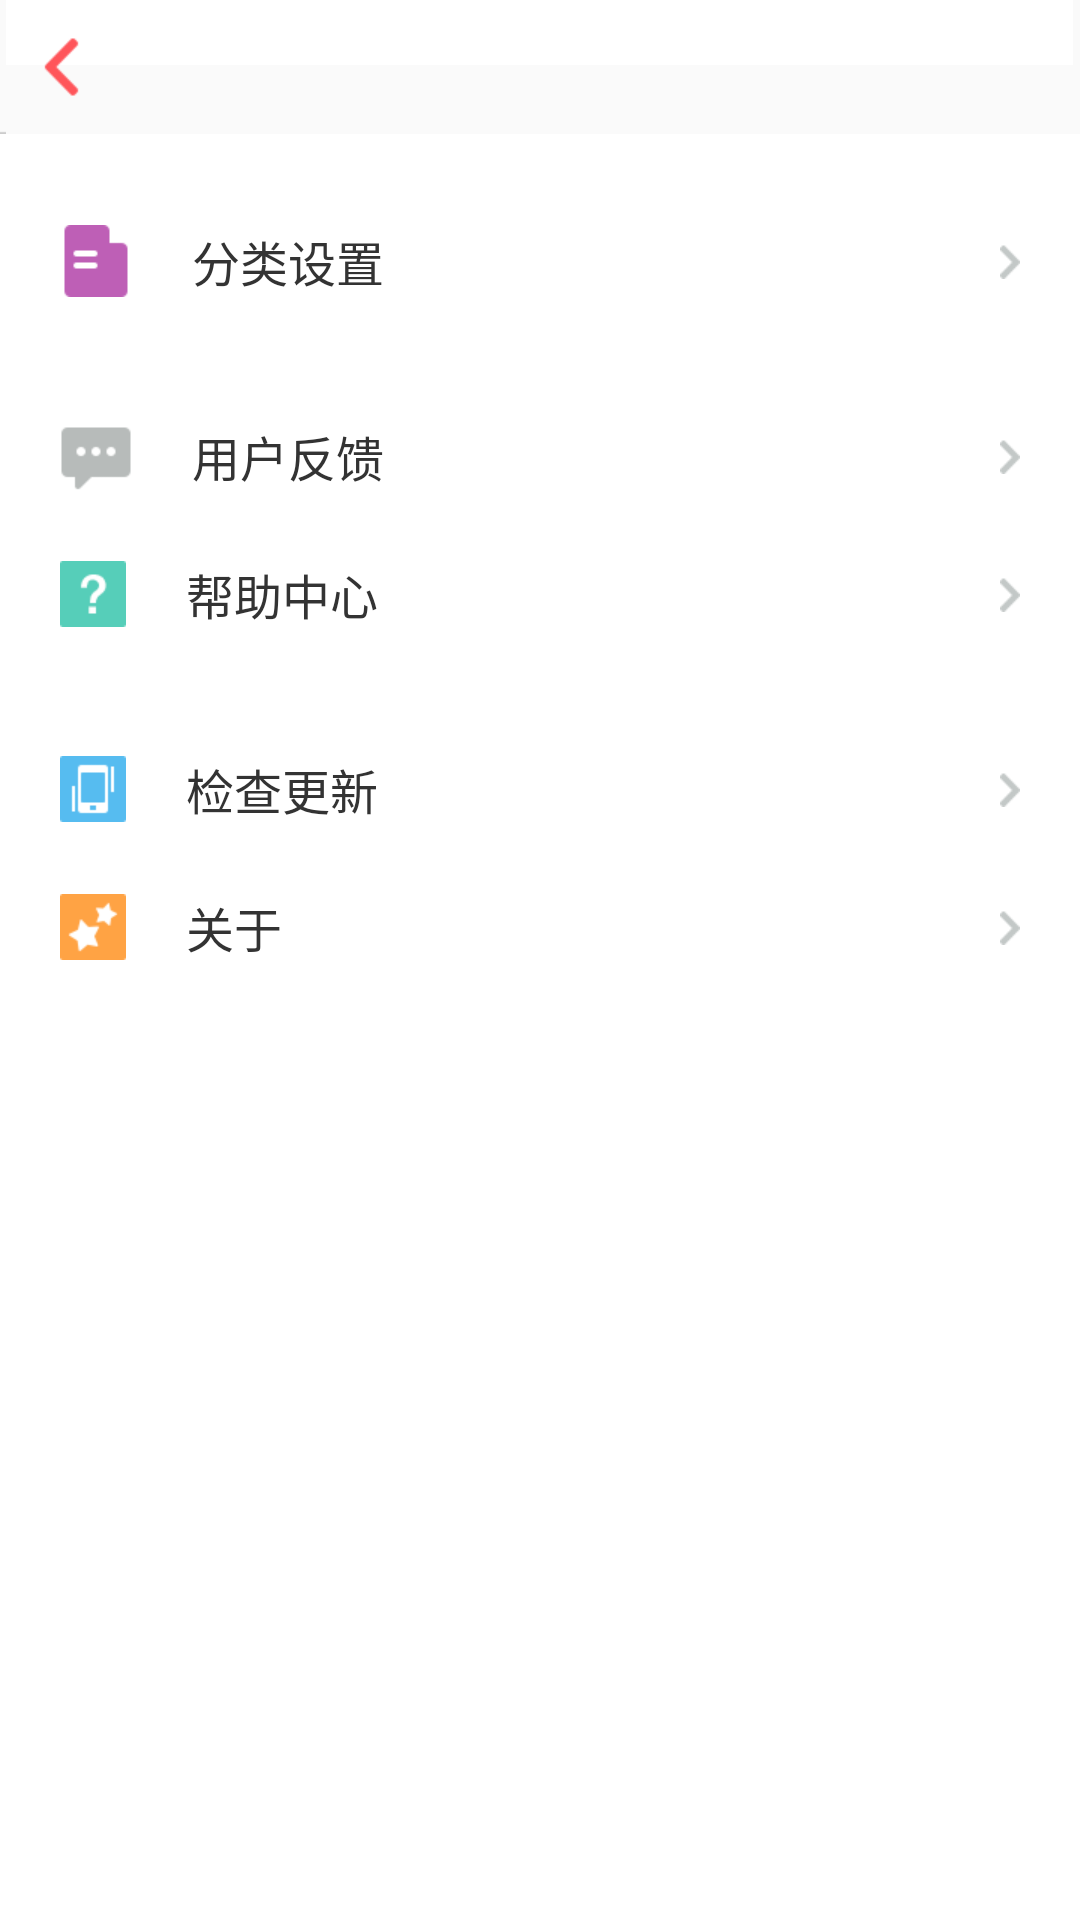

Named icons in this screenshot (1080*1920) and their bounding boxes, bbox=(x1, y1, x2, y2):
back: bbox=(44, 38, 79, 96)
category: bbox=(64, 225, 128, 297)
feedback: bbox=(61, 427, 131, 489)
help: bbox=(60, 561, 126, 627)
update: bbox=(60, 756, 126, 822)
